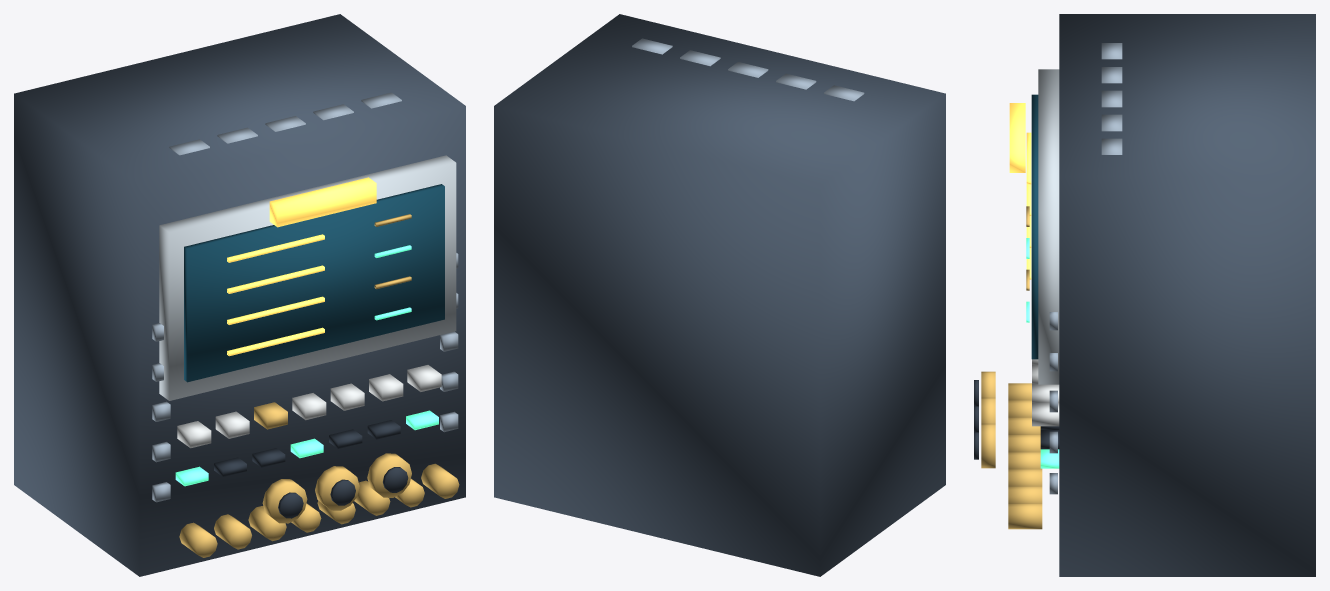
The model's file is 38_L89_ShelterDoseLimitEvaluator.glb.
3 renders of one model, left to right at view 1: azimuth 30°, elevation 25°; view 2: azimuth 150°, elevation 25°; view 3: azimuth 270°, elevation 25°, orthographic. The views are drawn at different scales.
Visible parts, largest first — view 1: L87_ShelterDoseLimitEvaluator_Part_0000, L87_ShelterDoseLimitEvaluator_Part_0002, L87_ShelterDoseLimitEvaluator_Part_0001, L87_ShelterDoseLimitEvaluator_Part_0004, L87_ShelterDoseLimitEvaluator_Part_0008, L87_ShelterDoseLimitEvaluator_Part_0006, L87_ShelterDoseLimitEvaluator_Part_0009, L87_ShelterDoseLimitEvaluator_Part_0003, L87_ShelterDoseLimitEvaluator_Part_0007, L87_ShelterDoseLimitEvaluator_Part_0005, L87_ShelterDoseLimitEvaluator_Part_0010, L87_ShelterDoseLimitEvaluator_Part_0012 (+1 smaller); view 2: L87_ShelterDoseLimitEvaluator_Part_0000, L87_ShelterDoseLimitEvaluator_Part_0008; view 3: L87_ShelterDoseLimitEvaluator_Part_0000, L87_ShelterDoseLimitEvaluator_Part_0001, L87_ShelterDoseLimitEvaluator_Part_0004, L87_ShelterDoseLimitEvaluator_Part_0008, L87_ShelterDoseLimitEvaluator_Part_0002, L87_ShelterDoseLimitEvaluator_Part_0006, L87_ShelterDoseLimitEvaluator_Part_0009, L87_ShelterDoseLimitEvaluator_Part_0003, L87_ShelterDoseLimitEvaluator_Part_0014, L87_ShelterDoseLimitEvaluator_Part_0005.
Boxes of the visible parts, x1=… form: L87_ShelterDoseLimitEvaluator_Part_0000: x1=14, y1=14, x2=465, y2=576; L87_ShelterDoseLimitEvaluator_Part_0002: x1=184, y1=184, x2=444, y2=382; L87_ShelterDoseLimitEvaluator_Part_0001: x1=159, y1=155, x2=456, y2=400; L87_ShelterDoseLimitEvaluator_Part_0004: x1=179, y1=214, x2=459, y2=557; L87_ShelterDoseLimitEvaluator_Part_0008: x1=152, y1=92, x2=458, y2=502; L87_ShelterDoseLimitEvaluator_Part_0006: x1=177, y1=365, x2=441, y2=448; L87_ShelterDoseLimitEvaluator_Part_0009: x1=269, y1=177, x2=376, y2=227; L87_ShelterDoseLimitEvaluator_Part_0003: x1=227, y1=234, x2=324, y2=356; L87_ShelterDoseLimitEvaluator_Part_0007: x1=214, y1=420, x2=400, y2=476; L87_ShelterDoseLimitEvaluator_Part_0005: x1=175, y1=245, x2=438, y2=486; L87_ShelterDoseLimitEvaluator_Part_0010: x1=262, y1=479, x2=307, y2=523; L87_ShelterDoseLimitEvaluator_Part_0012: x1=315, y1=466, x2=359, y2=510; L87_ShelterDoseLimitEvaluator_Part_0000: x1=494, y1=14, x2=945, y2=576; L87_ShelterDoseLimitEvaluator_Part_0008: x1=632, y1=38, x2=864, y2=101; L87_ShelterDoseLimitEvaluator_Part_0000: x1=1059, y1=14, x2=1315, y2=576; L87_ShelterDoseLimitEvaluator_Part_0001: x1=1038, y1=69, x2=1059, y2=384; L87_ShelterDoseLimitEvaluator_Part_0004: x1=1008, y1=206, x2=1042, y2=529; L87_ShelterDoseLimitEvaluator_Part_0008: x1=1049, y1=43, x2=1122, y2=494; L87_ShelterDoseLimitEvaluator_Part_0002: x1=1031, y1=94, x2=1038, y2=359; L87_ShelterDoseLimitEvaluator_Part_0006: x1=1032, y1=359, x2=1059, y2=426; L87_ShelterDoseLimitEvaluator_Part_0009: x1=1009, y1=103, x2=1025, y2=172; L87_ShelterDoseLimitEvaluator_Part_0003: x1=1026, y1=132, x2=1031, y2=279; L87_ShelterDoseLimitEvaluator_Part_0014: x1=981, y1=423, x2=995, y2=468; L87_ShelterDoseLimitEvaluator_Part_0005: x1=1026, y1=238, x2=1059, y2=468.
Bounding box in the file's own units: 1.12 × 1.29 × 0.996.
